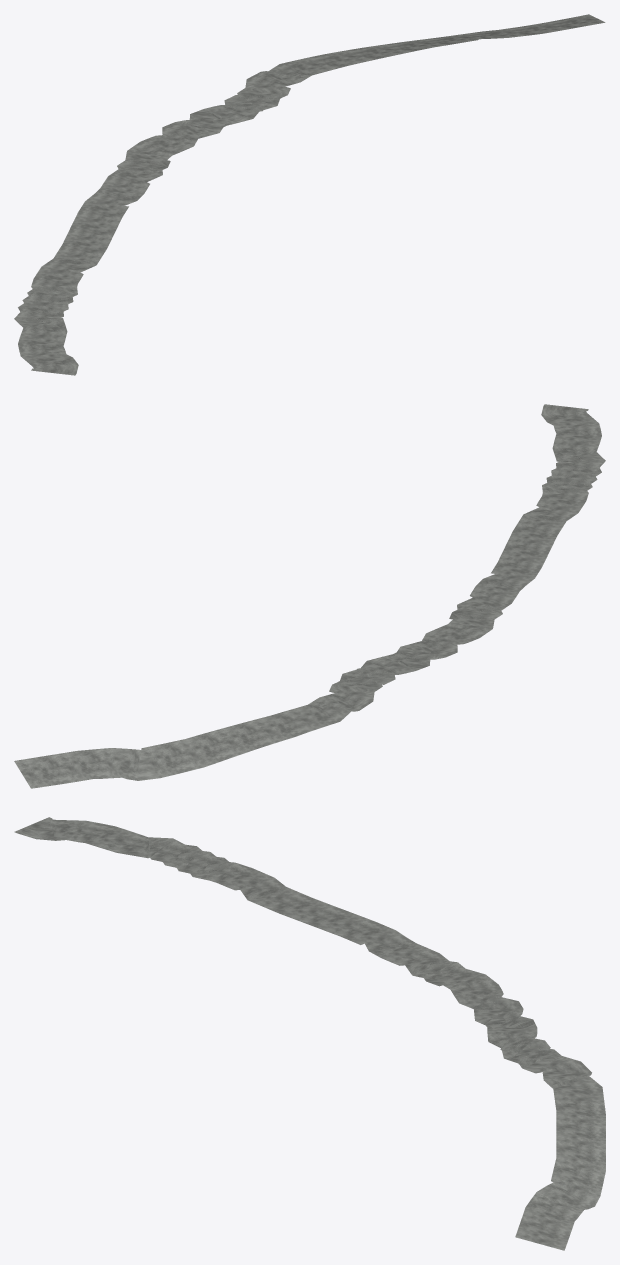
Rendered from RD-ROAD-026.obj.
3 renders of one model, top to bottom at view 1: azimuth 30°, elevation 25°; view 2: azimuth 210°, elevation 25°; view 3: azimuth 270°, elevation 25°, orthographic. The views are drawn at different scales.
Visible parts, largest first — view 1: RD-ROAD-026; view 2: RD-ROAD-026; view 3: RD-ROAD-026.
Part boxes in pixels (x1=…): RD-ROAD-026: x1=14, y1=14, x2=605, y2=375; RD-ROAD-026: x1=14, y1=404, x2=605, y2=788; RD-ROAD-026: x1=14, y1=817, x2=605, y2=1250.
Size of the model in its own units: 85.01 by 1.68 by 50.5.
Materials: 1 (1 with a texture image).
